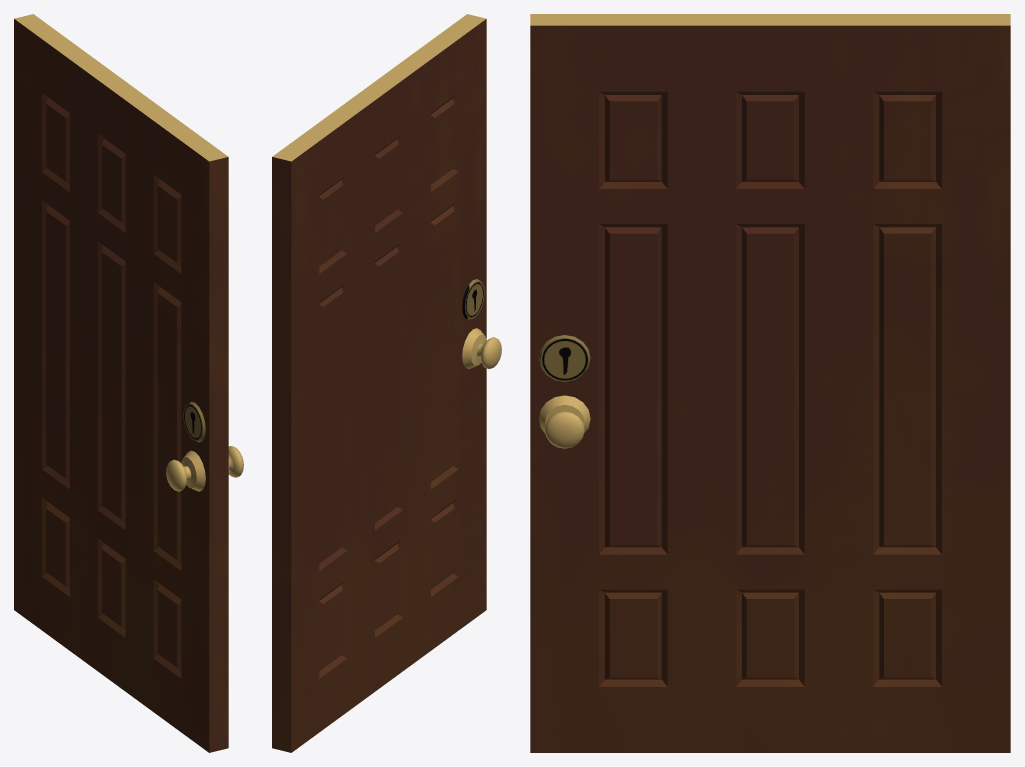
The model's file is LucasTan_mainDoor.fbx.
3 renders of one model, left to right at view 1: azimuth 30°, elevation 25°; view 2: azimuth 150°, elevation 25°; view 3: azimuth 270°, elevation 25°, orthographic. The views are drawn at different scales.
Visible parts, largest first — view 1: door_main; view 2: door_main; view 3: door_main.
Part boxes in pixels (bbox=[...]): door_main: bbox=[14, 14, 243, 752]; door_main: bbox=[272, 14, 501, 752]; door_main: bbox=[530, 14, 1010, 752].
Bounding box in the file's own units: 0.2737 × 2.21 × 1.32.
